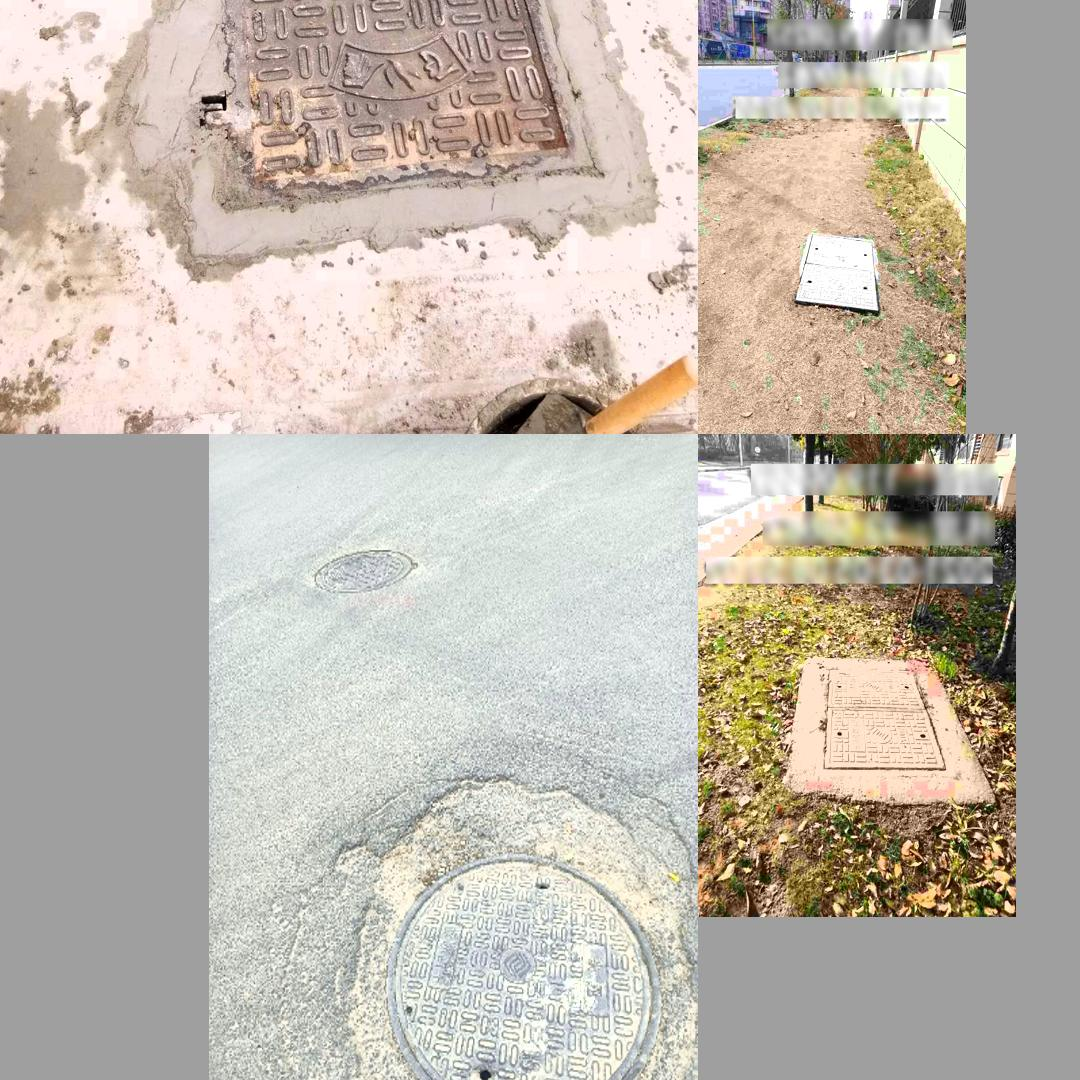good: (171, 0, 605, 199), (387, 853, 662, 1080), (814, 666, 954, 776), (793, 232, 881, 312), (313, 546, 420, 596)
